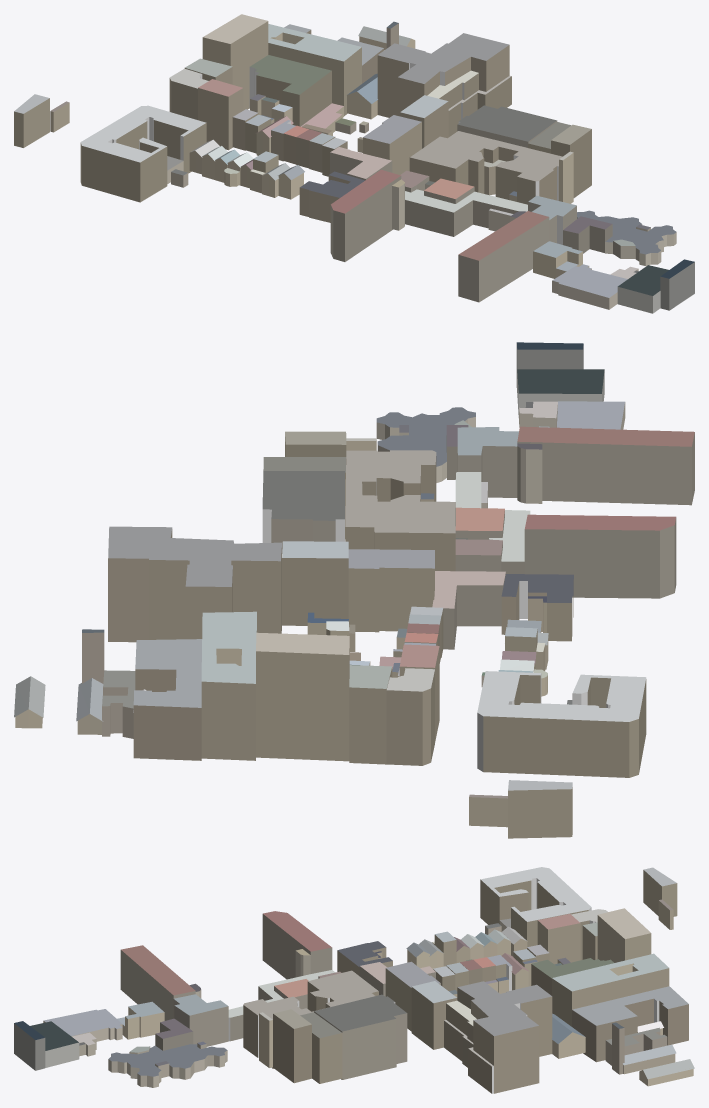
3 renders of one model, top to bottom at view 1: azimuth 30°, elevation 25°; view 2: azimuth 150°, elevation 25°; view 3: azimuth 270°, elevation 25°, orthographic. The views are drawn at different scales.
Parts seen in each view (by area): view 1: tuile; view 2: tuile; view 3: tuile.
Part boxes in pixels (<box>): tuile: <box>14,14,694,313</box>; tuile: <box>14,342,694,838</box>; tuile: <box>14,867,694,1093</box>.
Bounding box in the file's own units: 179 × 32.85 × 264.
